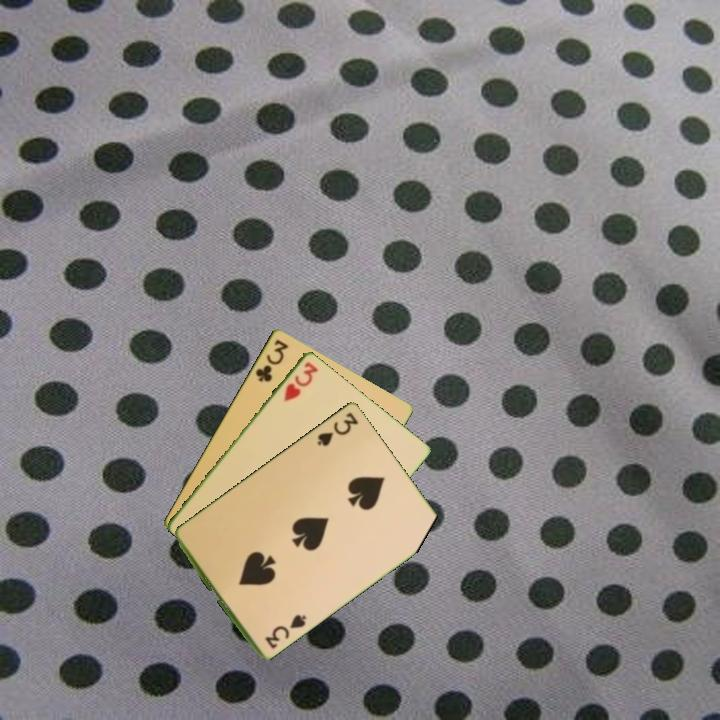3c: (251, 335, 291, 385)
3h: (280, 357, 321, 404)
3s: (261, 610, 309, 652), (314, 408, 361, 449)
